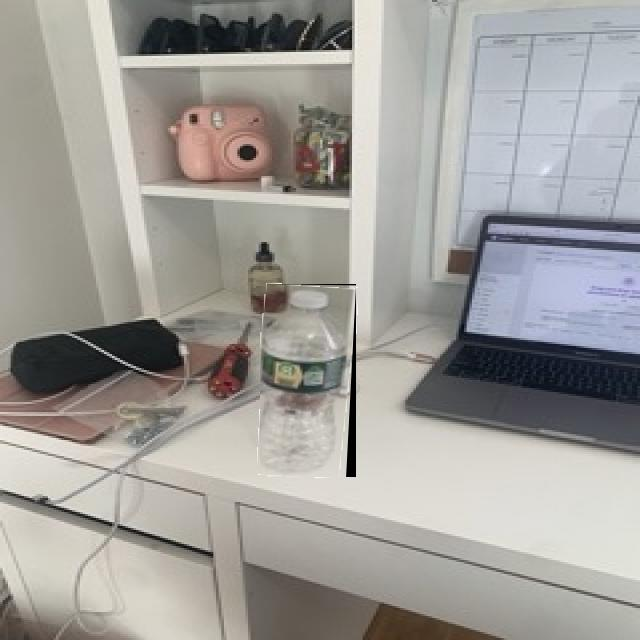water_bottle: (260, 284, 356, 477)
